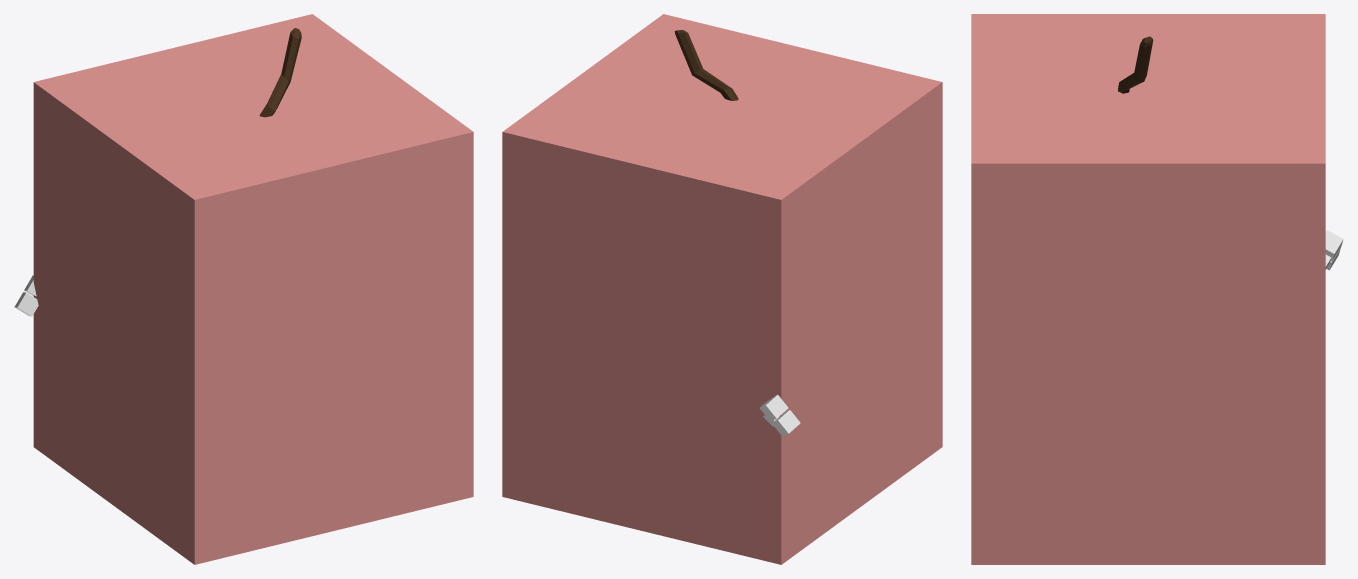
The model's file is Enemy_Exploserd03.fbx.
3 views of the same model, side by side, from view 1: azimuth 30°, elevation 25°; view 2: azimuth 150°, elevation 25°; view 3: azimuth 270°, elevation 25° (orthographic). The views are drawn at different scales.
Parts seen in each view (by area): view 1: Cube.004; view 2: Cube.004; view 3: Cube.004.
Part boxes in pixels (bbox=[...]): Cube.004: bbox=[14, 14, 473, 564]; Cube.004: bbox=[502, 14, 942, 564]; Cube.004: bbox=[971, 14, 1343, 564].
Bounding box in the file's own units: 213 × 296 × 210.
